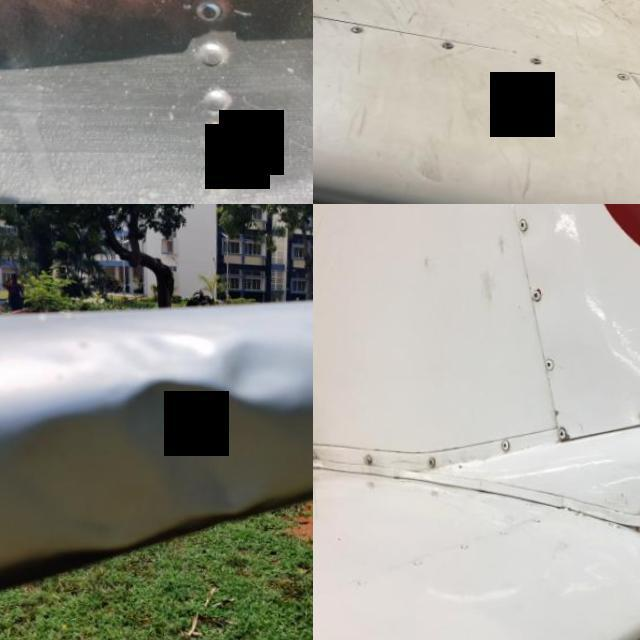Crack: (459, 225, 524, 352), (542, 394, 602, 452), (604, 509, 640, 587), (416, 248, 436, 286)
Dent: (0, 303, 313, 575)
